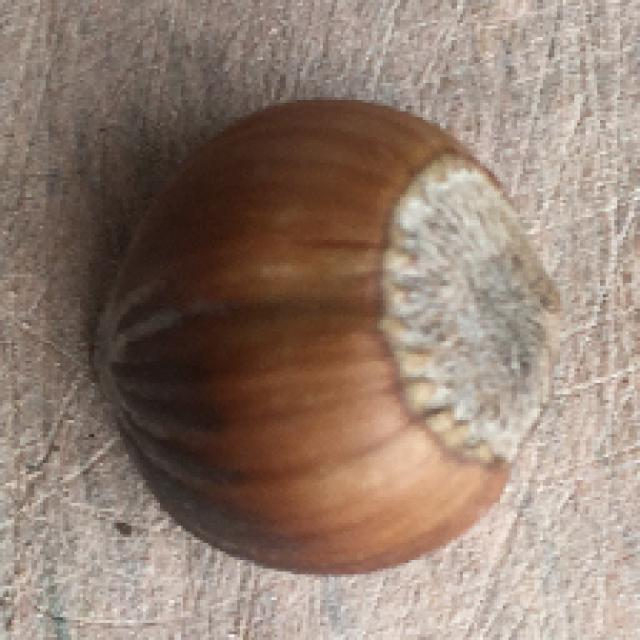qualityHazelnut: (88, 88, 567, 569)
